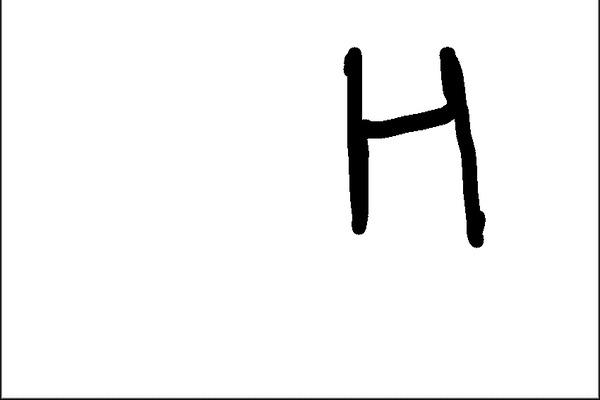H: (336, 40, 495, 251)
